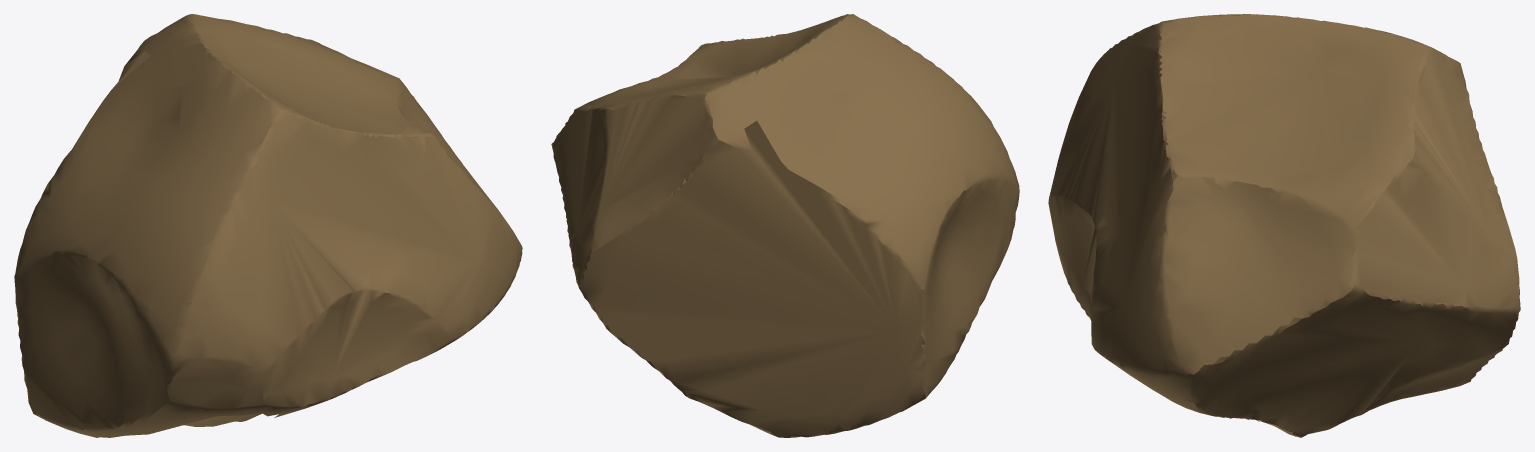
Rendered from rock2sand.fbx.
3 renders of one model, left to right at view 1: azimuth 30°, elevation 25°; view 2: azimuth 150°, elevation 25°; view 3: azimuth 270°, elevation 25°, orthographic. The views are drawn at different scales.
Visible parts, largest first — view 1: rock2sand; view 2: rock2sand; view 3: rock2sand.
Boxes of the visible parts, x1,y1,x2,y2 form: rock2sand: (14, 14, 522, 437); rock2sand: (551, 14, 1019, 437); rock2sand: (1048, 14, 1520, 437).
Size of the model in its own units: 483 by 409 by 439.
